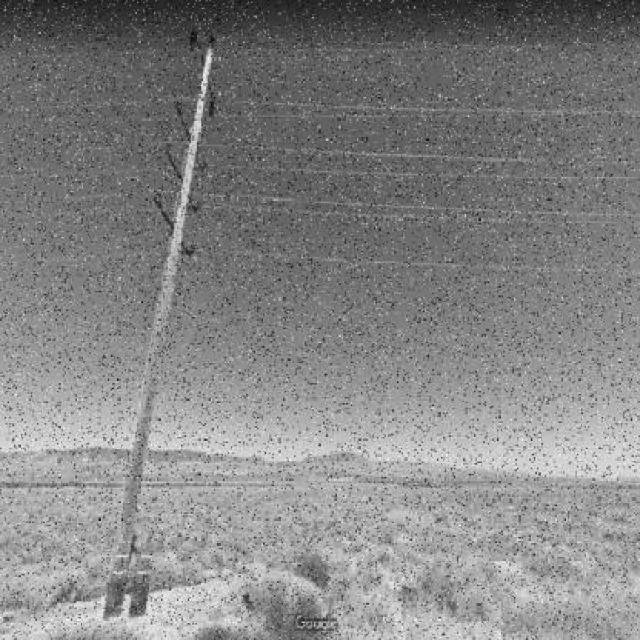crossarm: (151, 193, 198, 261), (159, 140, 200, 214)
pole: (103, 43, 214, 620)
